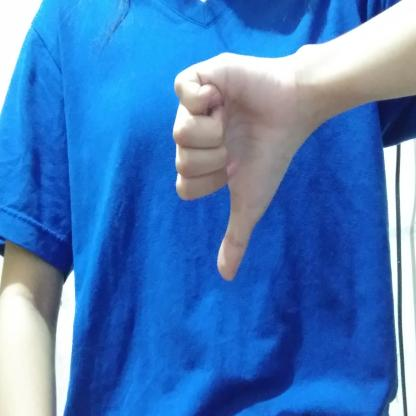no: (165, 50, 298, 288)
